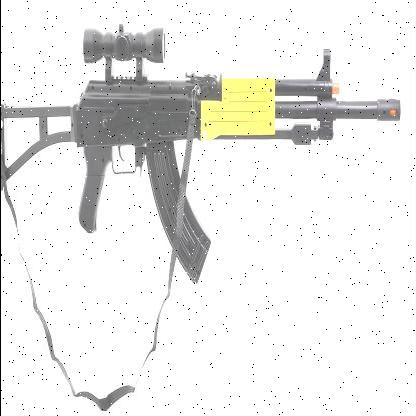rifle: (0, 12, 406, 288)
